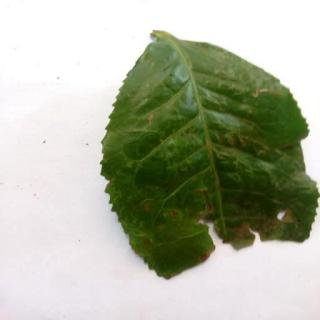Algal Leaf: (101, 30, 320, 283)
